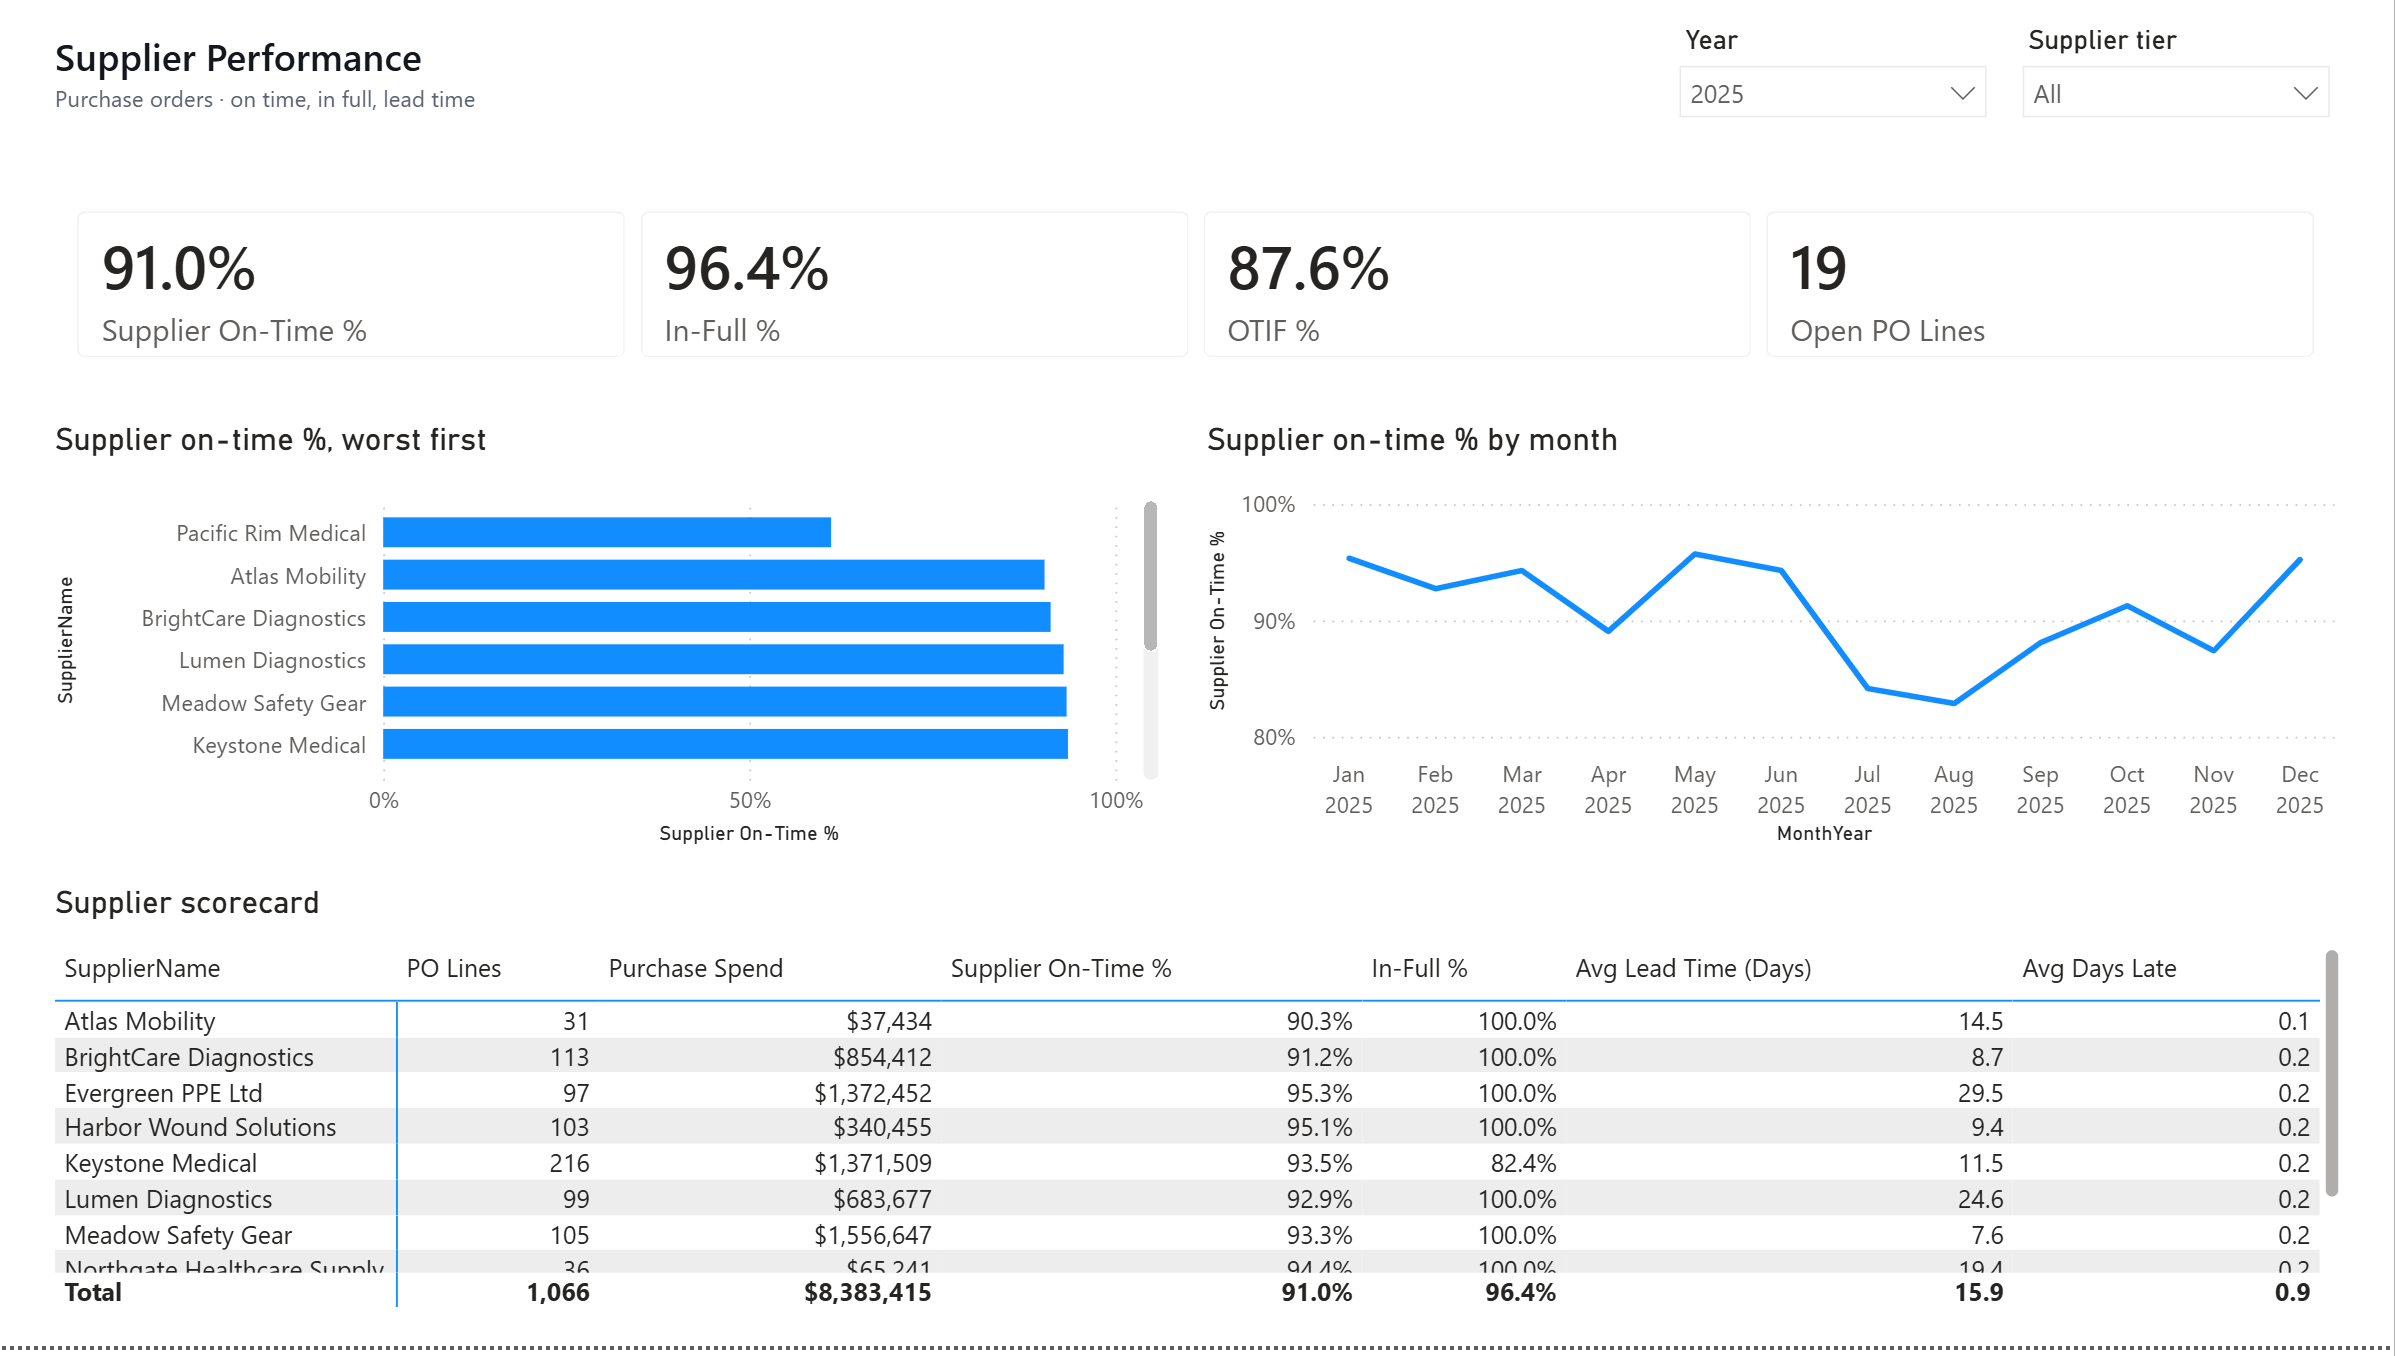

This screenshot's page, from the dashboard's own definition file:
{"tool":"powerbi","page":{"name":"Supplier Performance","canvas":[1280,720],"ordinal":1},"visuals":[{"type":"textbox","box":[24,12,640,64],"z":0},{"type":"slicer","fields":{"Values":["Dim_Date.Year"]},"box":[888,8,184,80],"z":1000},{"type":"slicer","fields":{"Values":["Dim_Supplier.SupplierTier"]},"box":[1072,8,184,80],"z":2000},{"type":"cardVisual","fields":{"Data":["_Measures.Supplier On-Time %","_Measures.In-Full %","_Measures.OTIF %","_Measures.Open PO Lines"]},"box":[24,96,1232,112],"z":3000},{"type":"clusteredBarChart","title":"Supplier on-time %, worst first","fields":{"Category":["Dim_Supplier.SupplierName"],"Y":["_Measures.Supplier On-Time %"]},"box":[24,224,600,232],"z":4000},{"type":"lineChart","title":"Supplier on-time % by month","fields":{"Category":["Dim_Date.MonthYear"],"Y":["_Measures.Supplier On-Time %"]},"box":[640,224,616,232],"z":5000},{"type":"pivotTable","title":"Supplier scorecard","fields":{"Rows":["Dim_Supplier.SupplierName"],"Values":["_Measures.PO Lines","_Measures.Purchase Spend","_Measures.Supplier On-Time %","_Measures.In-Full %","_Measures.Avg Lead Time (Days)","_Measures.Avg Days Late"]},"box":[24,472,1232,232],"z":6000}]}

Visuals, with their boxes in screenshot pixels (x1, y1, x2, y2), scaled from the page's 1280x720 canvas onto the 2395x1356 screenshot:
textbox: left=45, top=23, right=1242, bottom=143
slicer - Dim_Date.Year: left=1662, top=15, right=2006, bottom=166
slicer - Dim_Supplier.SupplierTier: left=2006, top=15, right=2350, bottom=166
cardVisual - _Measures.Supplier On-Time % x _Measures.In-Full %: left=45, top=181, right=2350, bottom=392
"Supplier on-time %, worst first" clusteredBarChart: left=45, top=422, right=1168, bottom=859
"Supplier on-time % by month" lineChart: left=1198, top=422, right=2350, bottom=859
"Supplier scorecard" pivotTable: left=45, top=889, right=2350, bottom=1326
